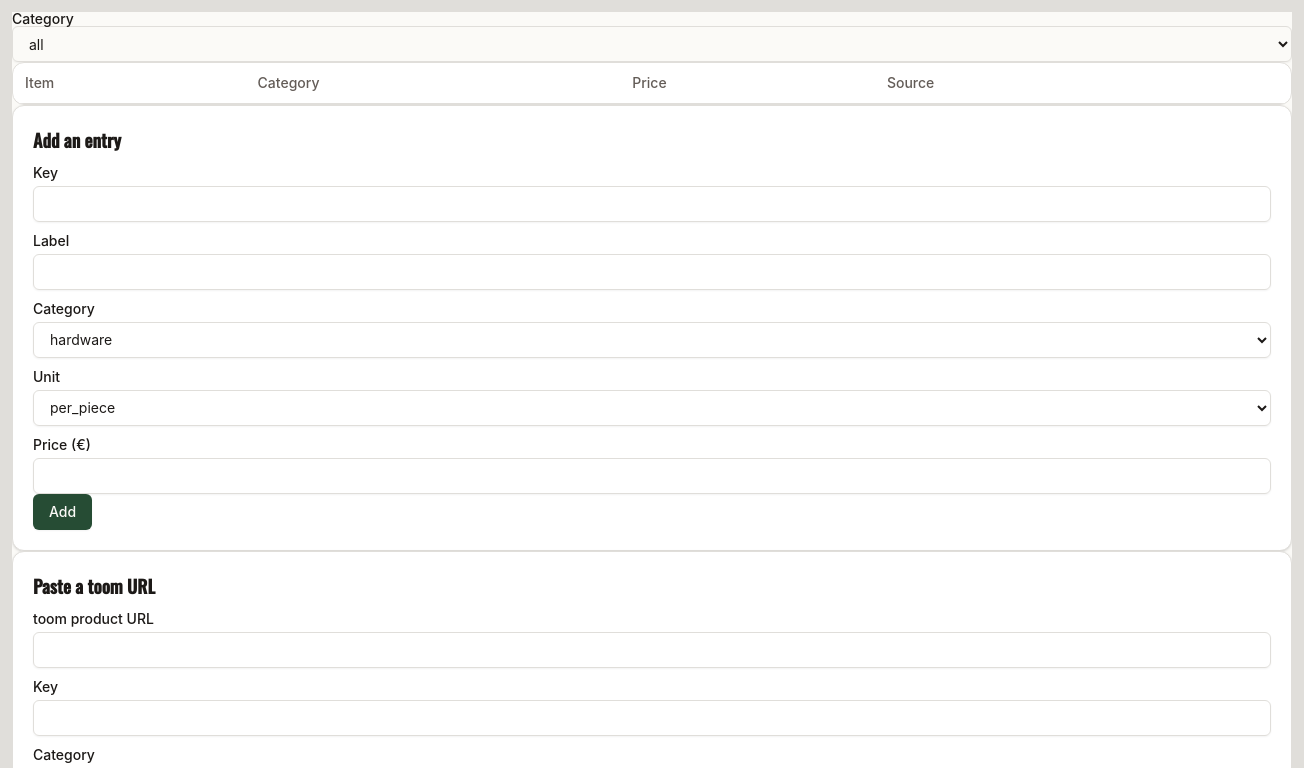
a manual entry is sent in cents, and a refusal names its field
The image size is (1304, 768).
Type "hinge" into the field with id "add-key" at [652, 204], box top-left (33, 186), bottom-right (1271, 222)
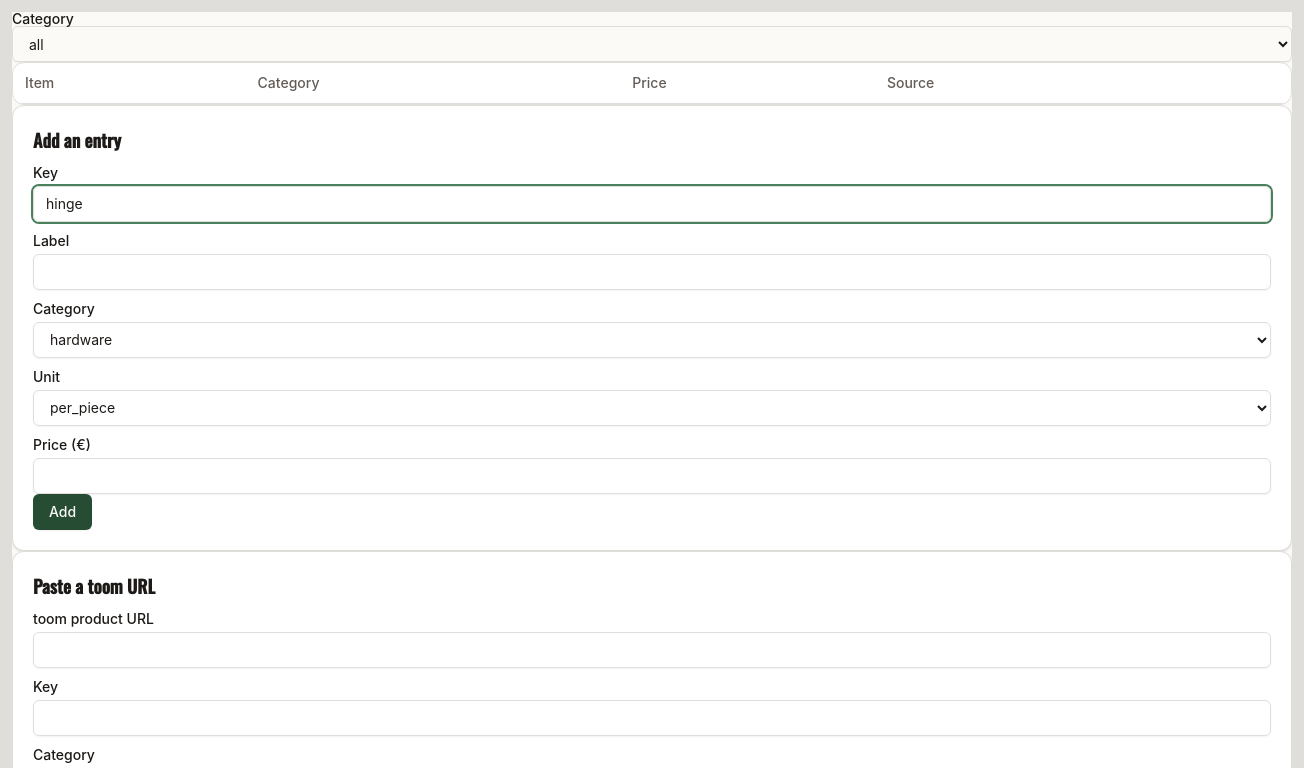
Type "Hinge" into the field with id "add-label" at [652, 272], box top-left (33, 254), bottom-right (1271, 290)
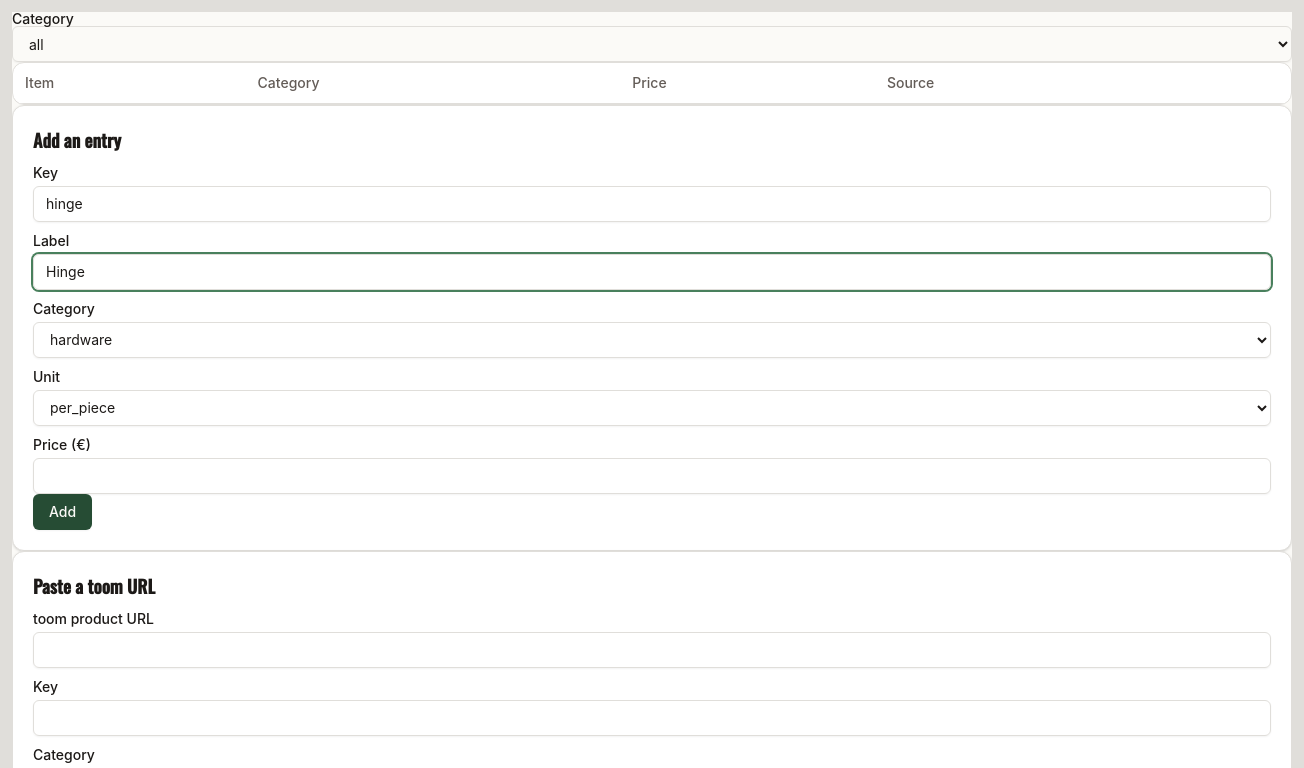
Type "2,50" into the field with id "add-price" at [652, 476], box top-left (33, 458), bottom-right (1271, 494)
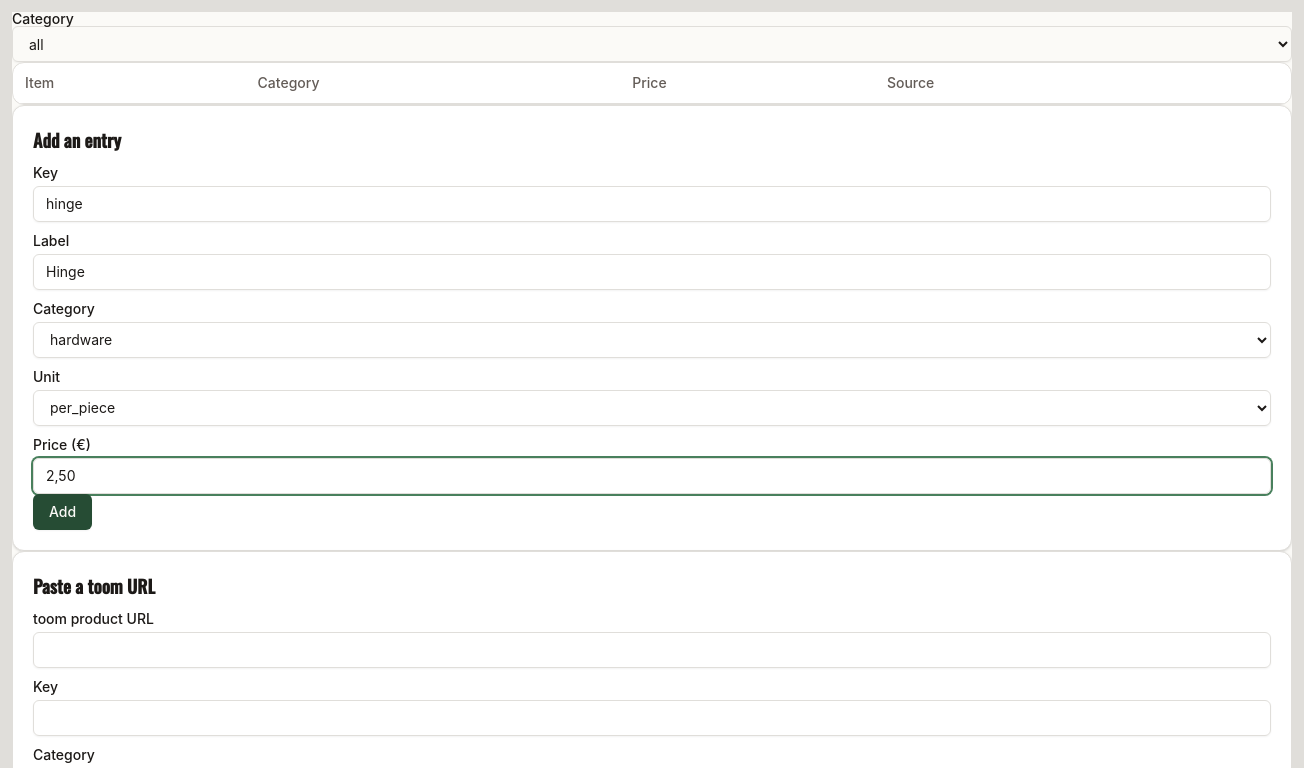
Click the button "Add" at [63, 512], box top-left (33, 494), bottom-right (92, 530)
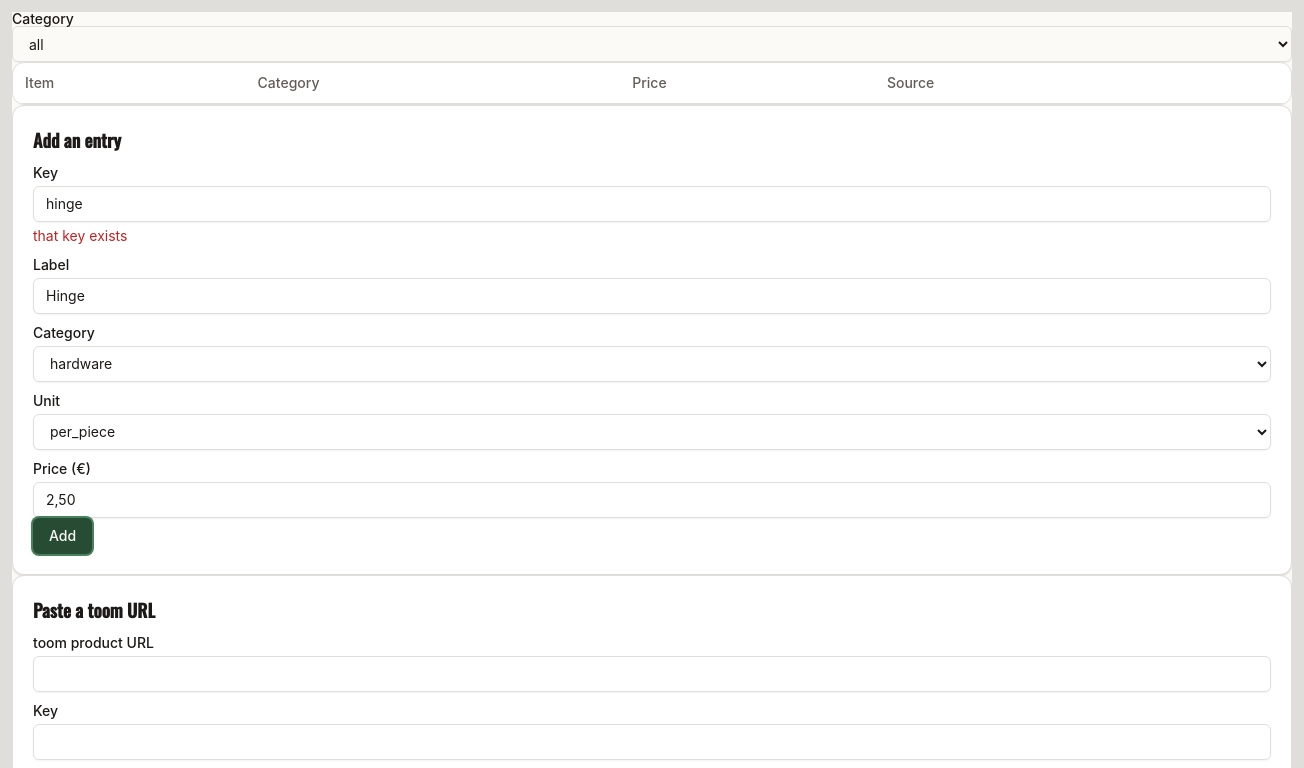
Result: the text "that key exists" is shown at top-left (33, 226), bottom-right (127, 244)
